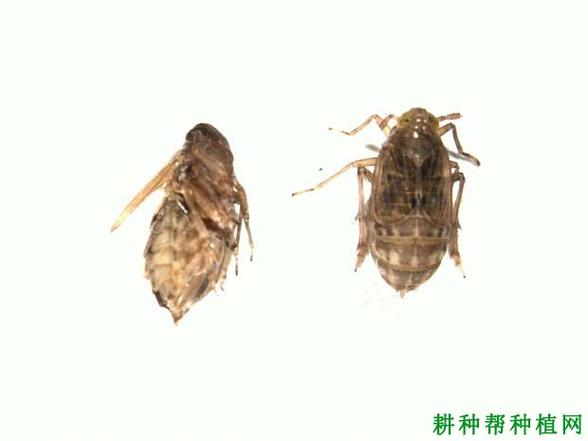Delphacidae: (291, 107, 481, 299), (109, 123, 254, 327)
